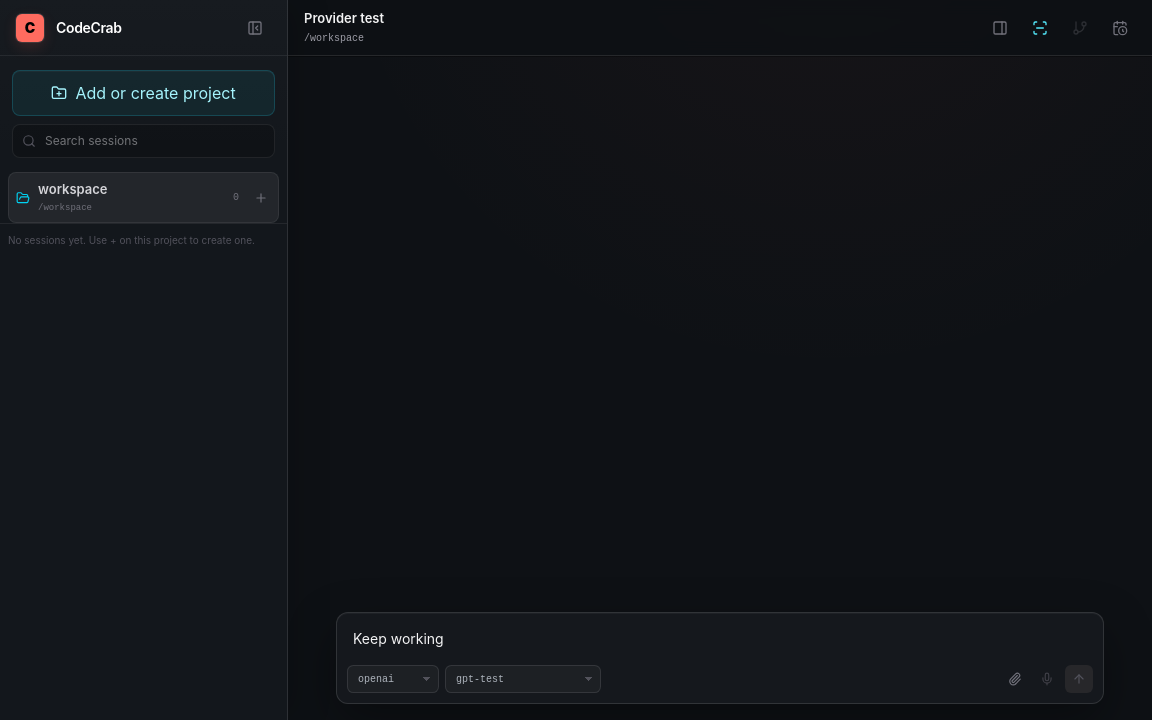
Test case: session provider selection › keeps built-in commands out of the active-turn queue but queues skills
Press Enter in the field named "Message CodeCrab", box [353, 630, 444, 647]
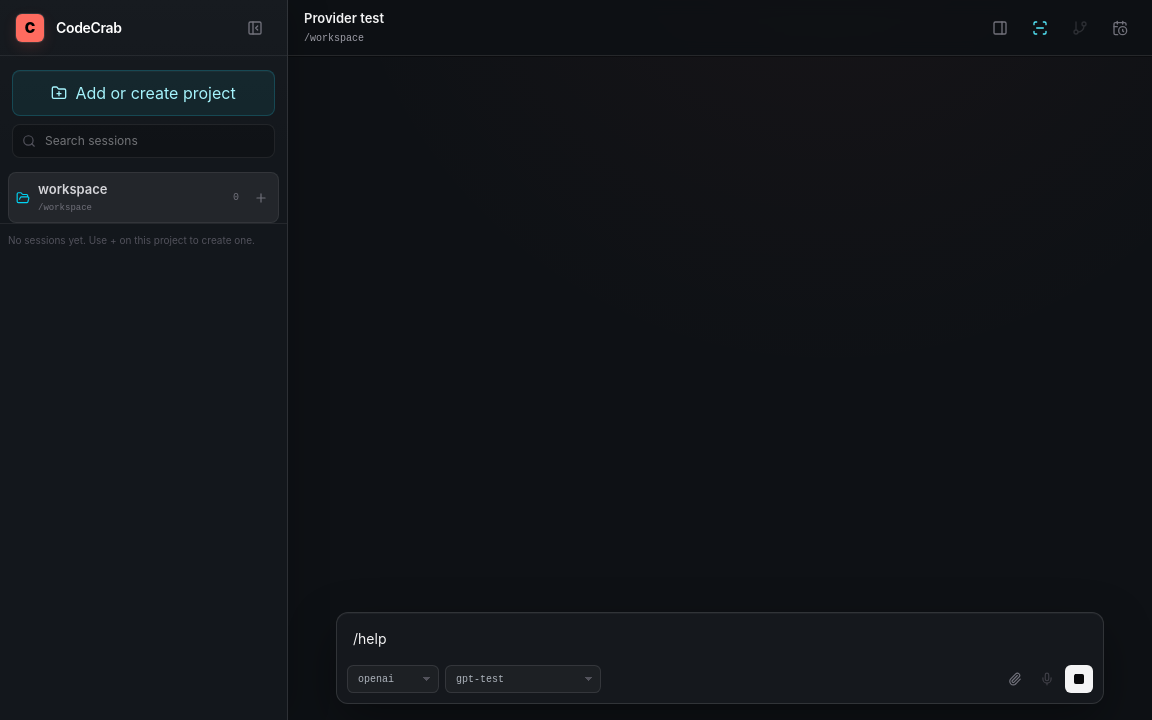
Press Enter in the field named "Message CodeCrab", box [353, 630, 386, 647]
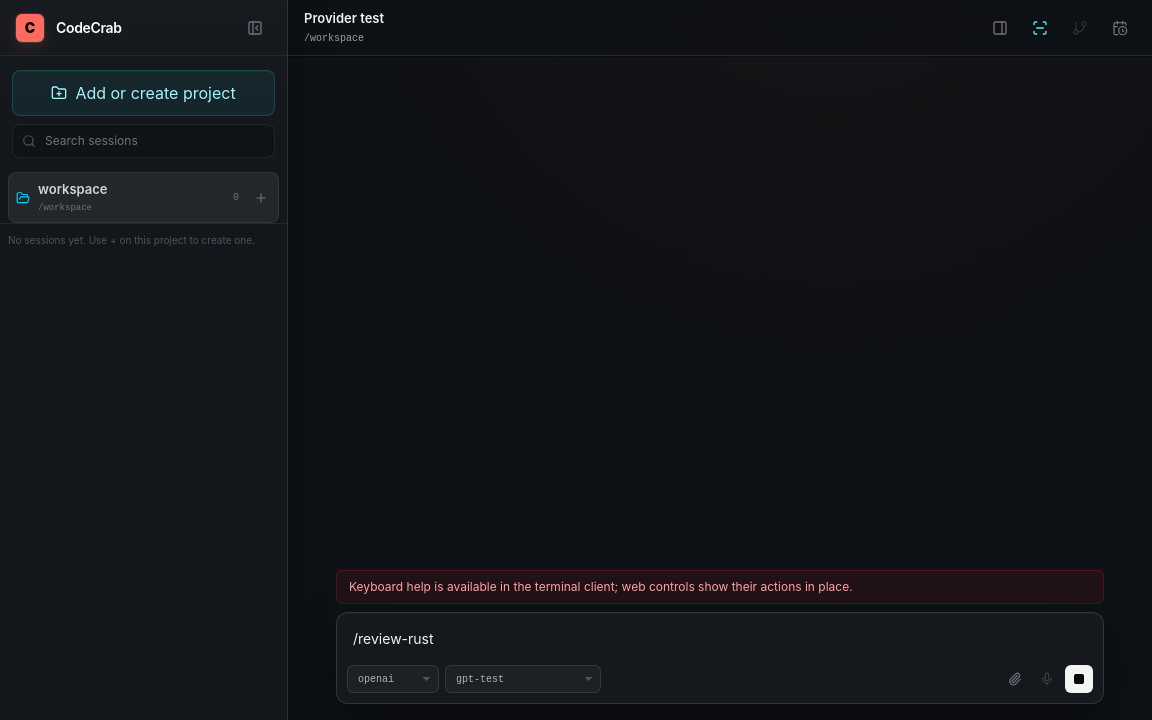
Check: the text "Queued 1" is not shown
Check: the text "Keyboard help is available in the terminal client" is shown, box [349, 579, 853, 594]
Press Enter in the field named "Message CodeCrab", box [353, 630, 434, 647]
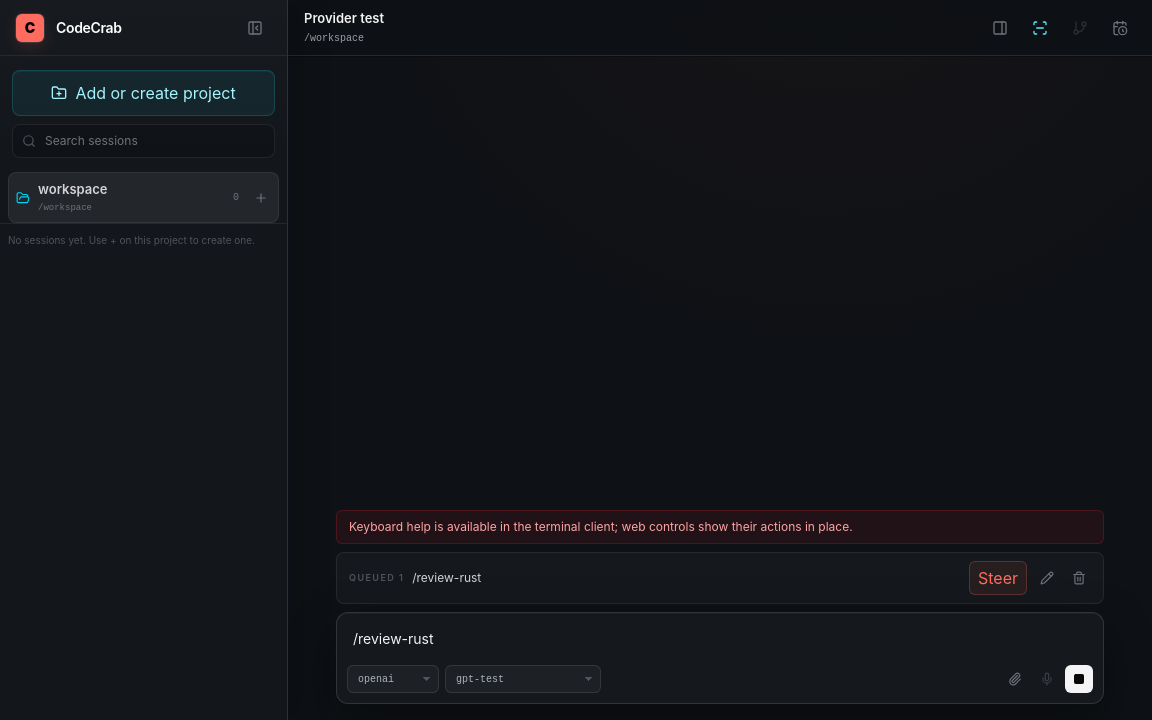
Check: the text "/review-rust" is shown, box [412, 570, 481, 585]
Check: the text "Queued 1" is shown, box [349, 571, 404, 585]
Check: the button named "Edit queued message" is shown
Click the button named "Edit queued message".
click(1047, 578)  # box [1035, 566, 1059, 590]
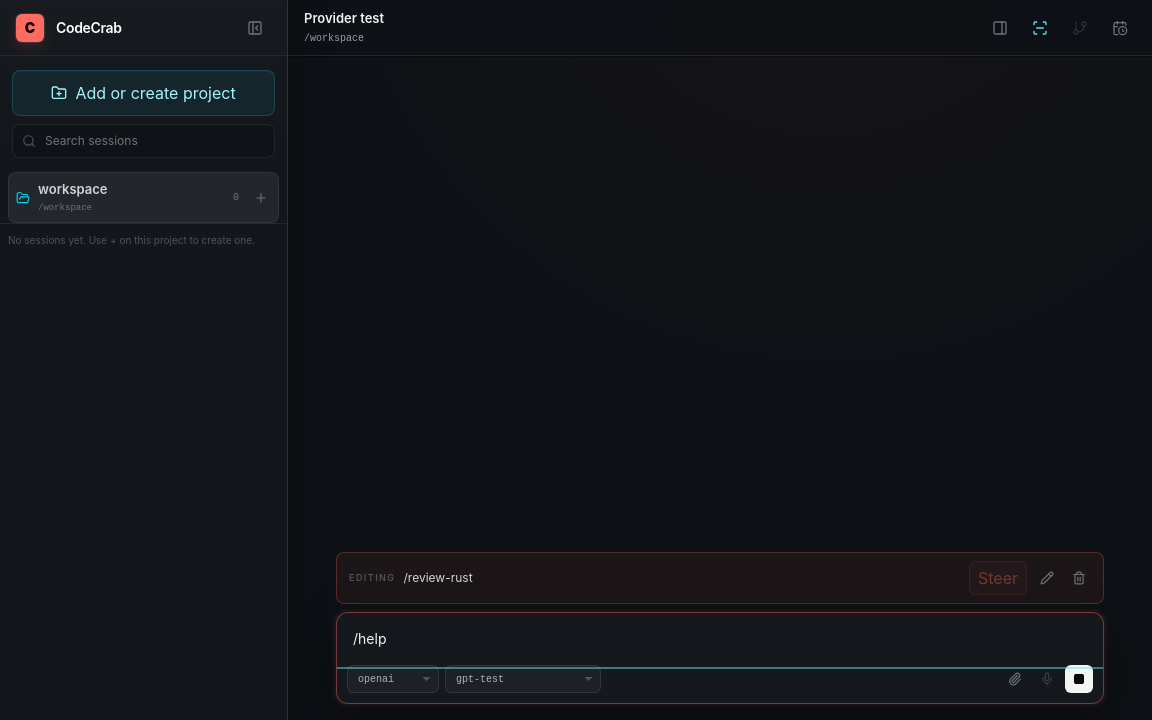
Check: the text "Editing" is shown, box [349, 571, 396, 585]
Press Enter in the field named "Message CodeCrab", box [353, 630, 386, 647]
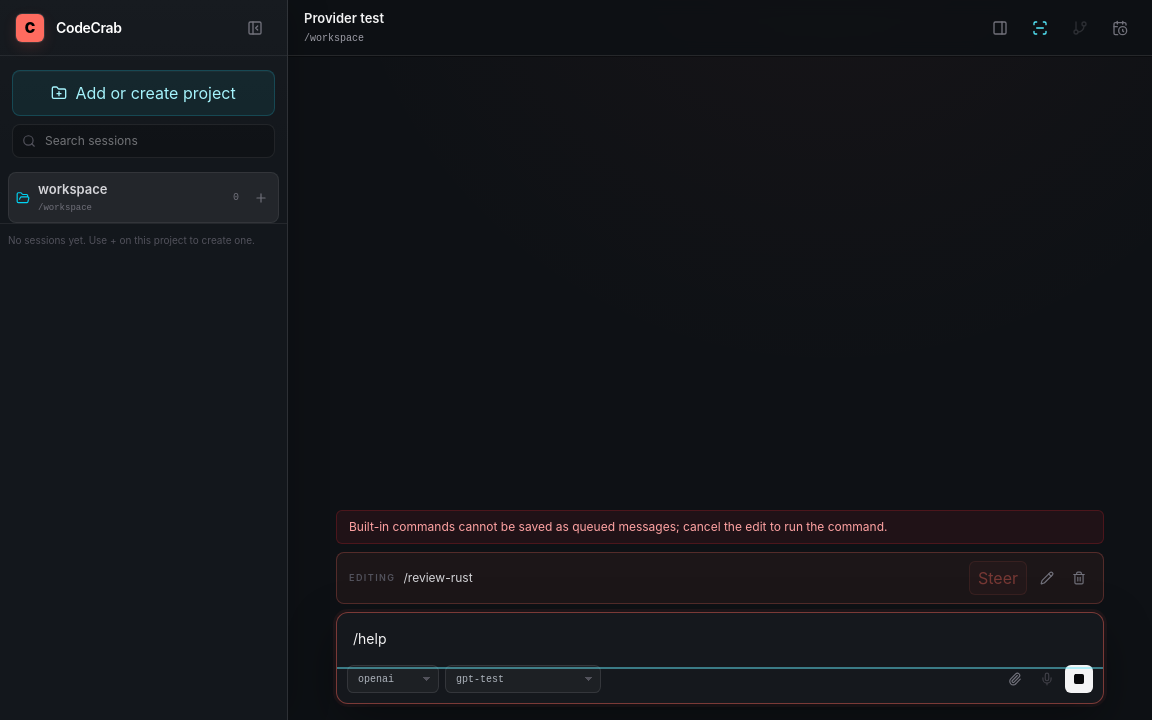
Check: the text "/review-rust" is shown, box [404, 570, 472, 585]
Check: the text "Editing" is shown, box [349, 571, 396, 585]
Check: the text "cannot be saved as queued messages" is shown, box [349, 519, 888, 534]
